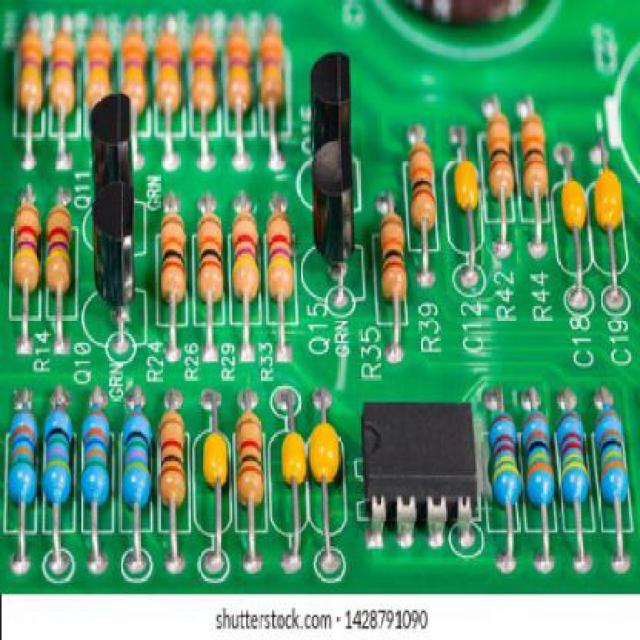Capacitor: (490, 414, 525, 502), (11, 207, 43, 293), (528, 416, 557, 505), (127, 413, 153, 505), (163, 216, 187, 307), (195, 220, 221, 304), (50, 212, 72, 296)
